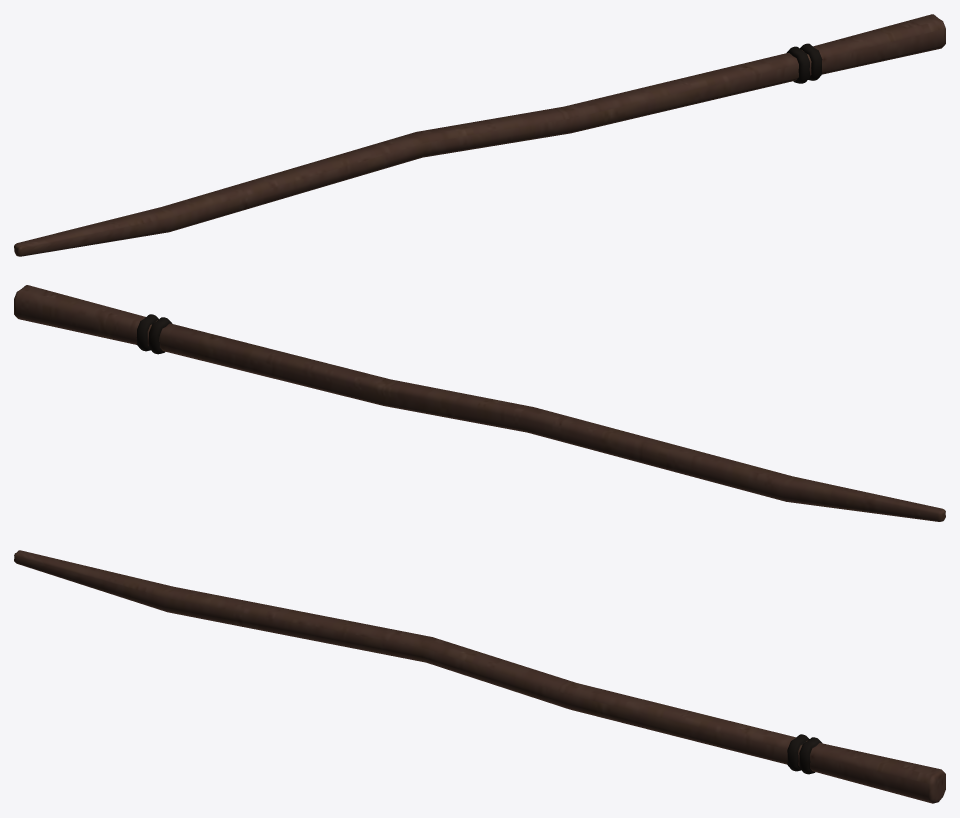
The model's file is staf.glb.
3 renders of one model, top to bottom at view 1: azimuth 30°, elevation 25°; view 2: azimuth 150°, elevation 25°; view 3: azimuth 330°, elevation 25°, orthographic.
Visible parts, largest first — view 1: wand_wand_0, wand_rope_0; view 2: wand_wand_0, wand_rope_0; view 3: wand_wand_0, wand_rope_0.
Part boxes in pixels (x1,y1,x2,y2): wand_wand_0: [14, 14, 945, 256]; wand_rope_0: [786, 43, 822, 83]; wand_wand_0: [14, 285, 945, 521]; wand_rope_0: [136, 314, 172, 354]; wand_wand_0: [14, 550, 945, 803]; wand_rope_0: [787, 734, 822, 774].
Size of the model in its own units: 67.03 by 2.56 by 2.2.
Materials: 2 (2 with a texture image).
